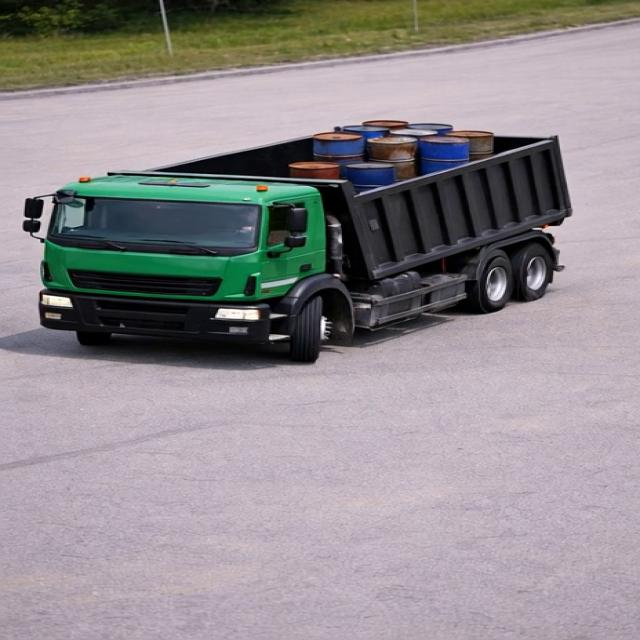trailer: (117, 116, 562, 188)
truck: (21, 68, 602, 351)
